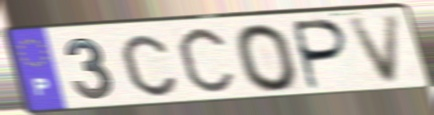3: (62, 35, 116, 105)
C: (174, 23, 239, 100), (118, 33, 180, 99)
O: (232, 22, 302, 95)
P: (292, 17, 352, 93)
V: (346, 13, 405, 88)
